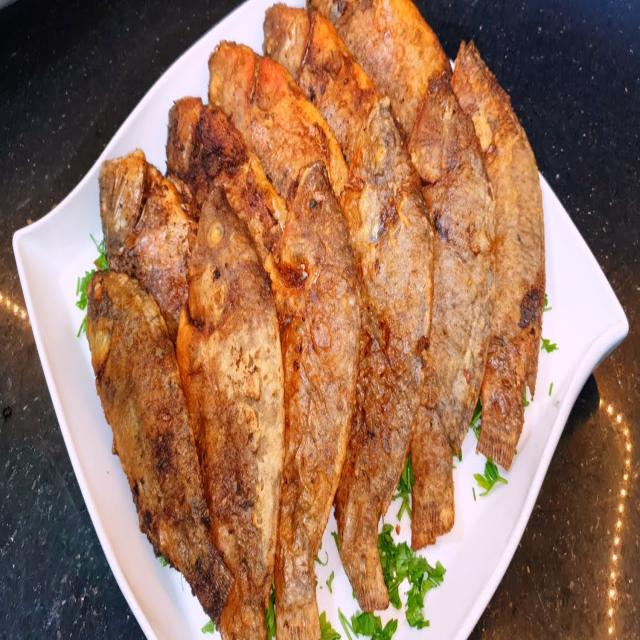Peixe: (83, 1, 546, 636), (84, 266, 234, 626), (450, 36, 546, 472)
